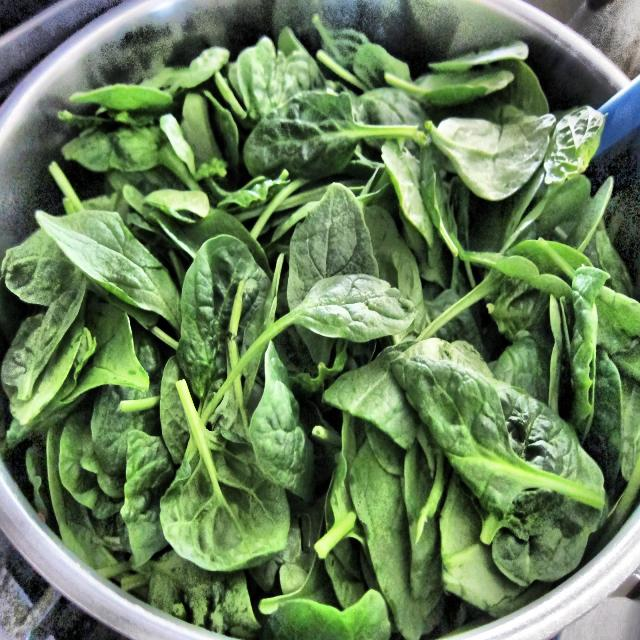spinach: (137, 115, 487, 536)
